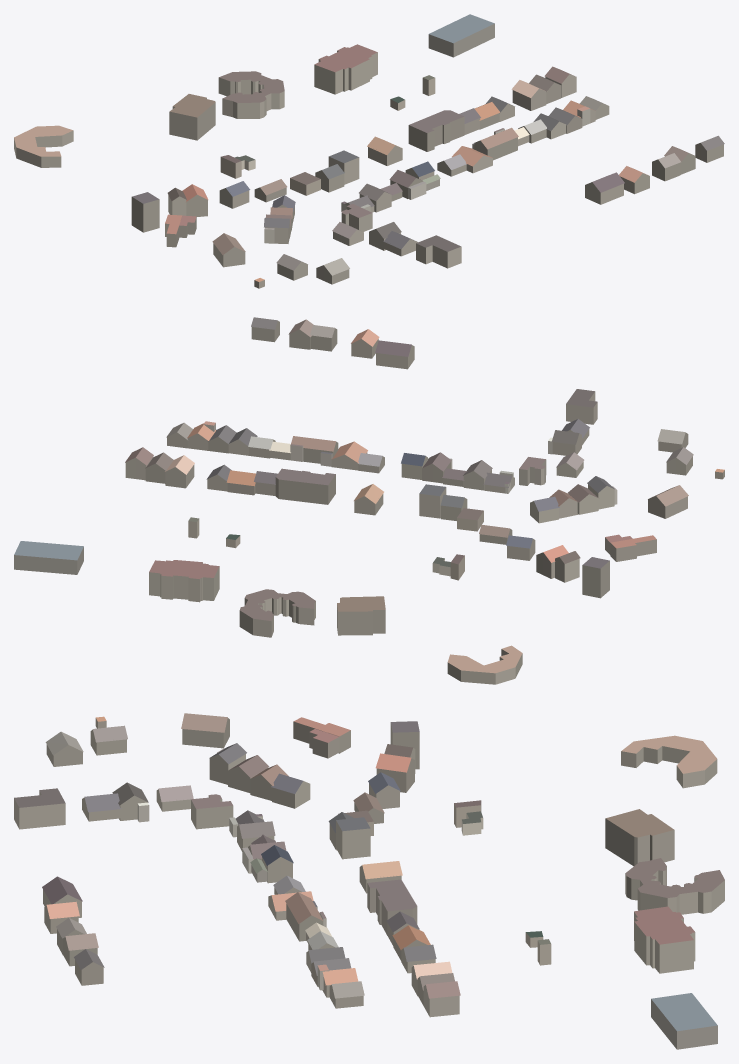
The picture shows the model from 3 angles, top to bottom: view 1: azimuth 30°, elevation 25°; view 2: azimuth 150°, elevation 25°; view 3: azimuth 270°, elevation 25°; orthographic projection. The views are drawn at different scales.
Visible parts, largest first — view 1: tuile; view 2: tuile; view 3: tuile.
Part boxes in pixels (x1,y1,x2,y2): tuile: [14, 14, 724, 288]; tuile: [14, 317, 724, 684]; tuile: [14, 713, 724, 1049].
Size of the model in its own units: 266 by 37.81 by 262.
